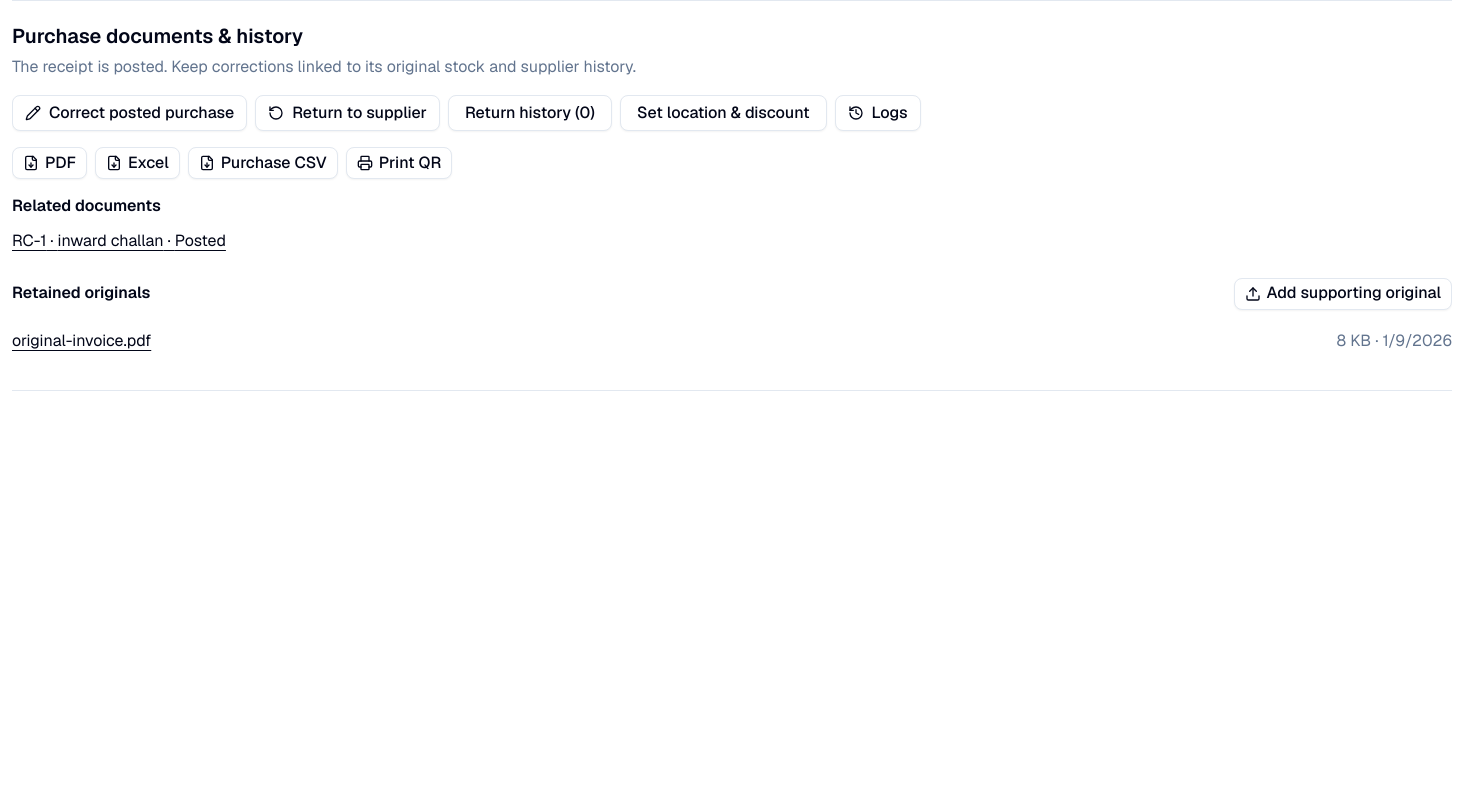
Test case: saves metadata with the current action version and explains that historic totals stay unchanged
The image size is (1464, 810).
Click the button "Set location & discount" at x=723, y=113, box [620,95,827,131]
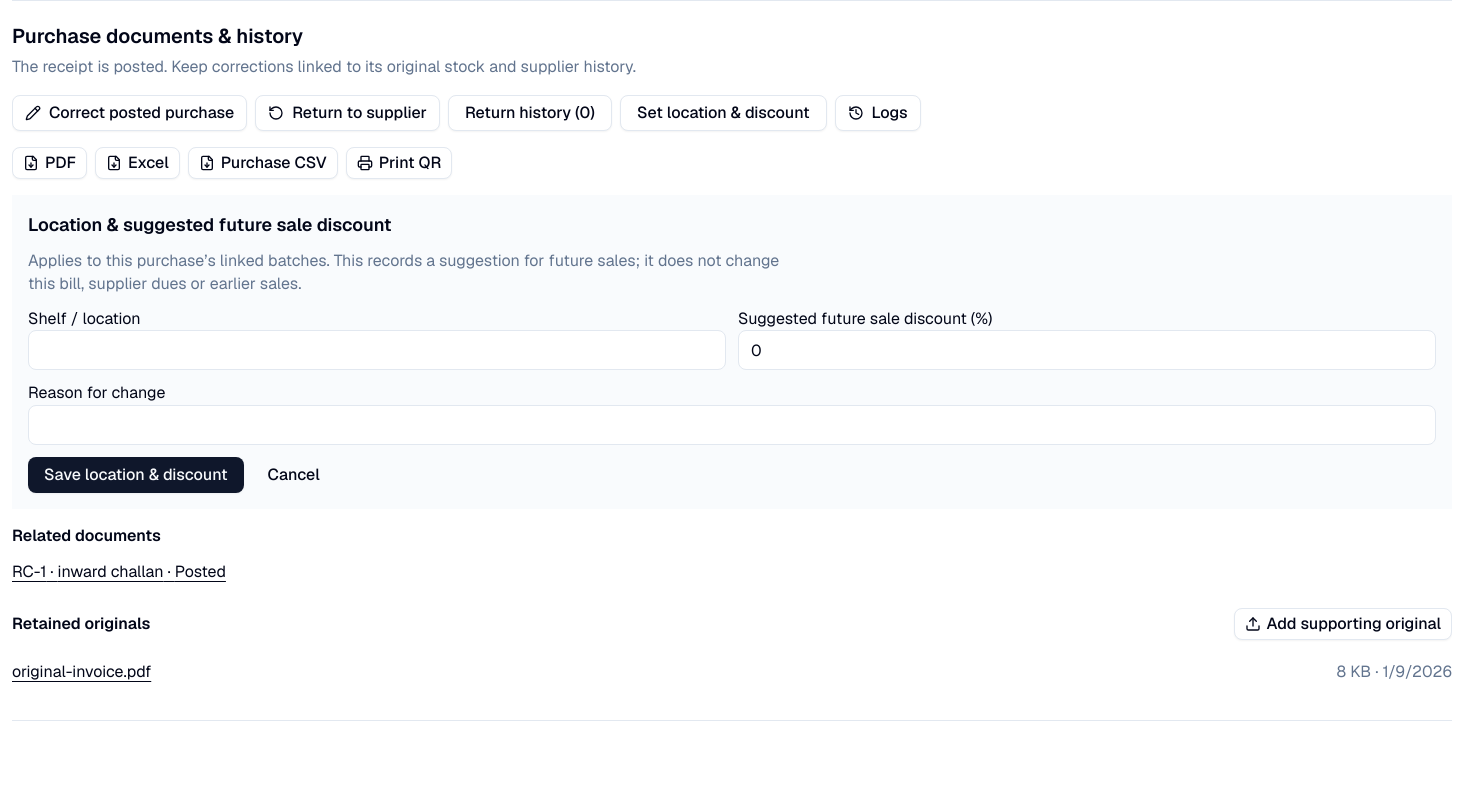
Type "Shelf A-3" into the field labelled "Shelf / location" at x=377, y=350, box [28,330,726,370]
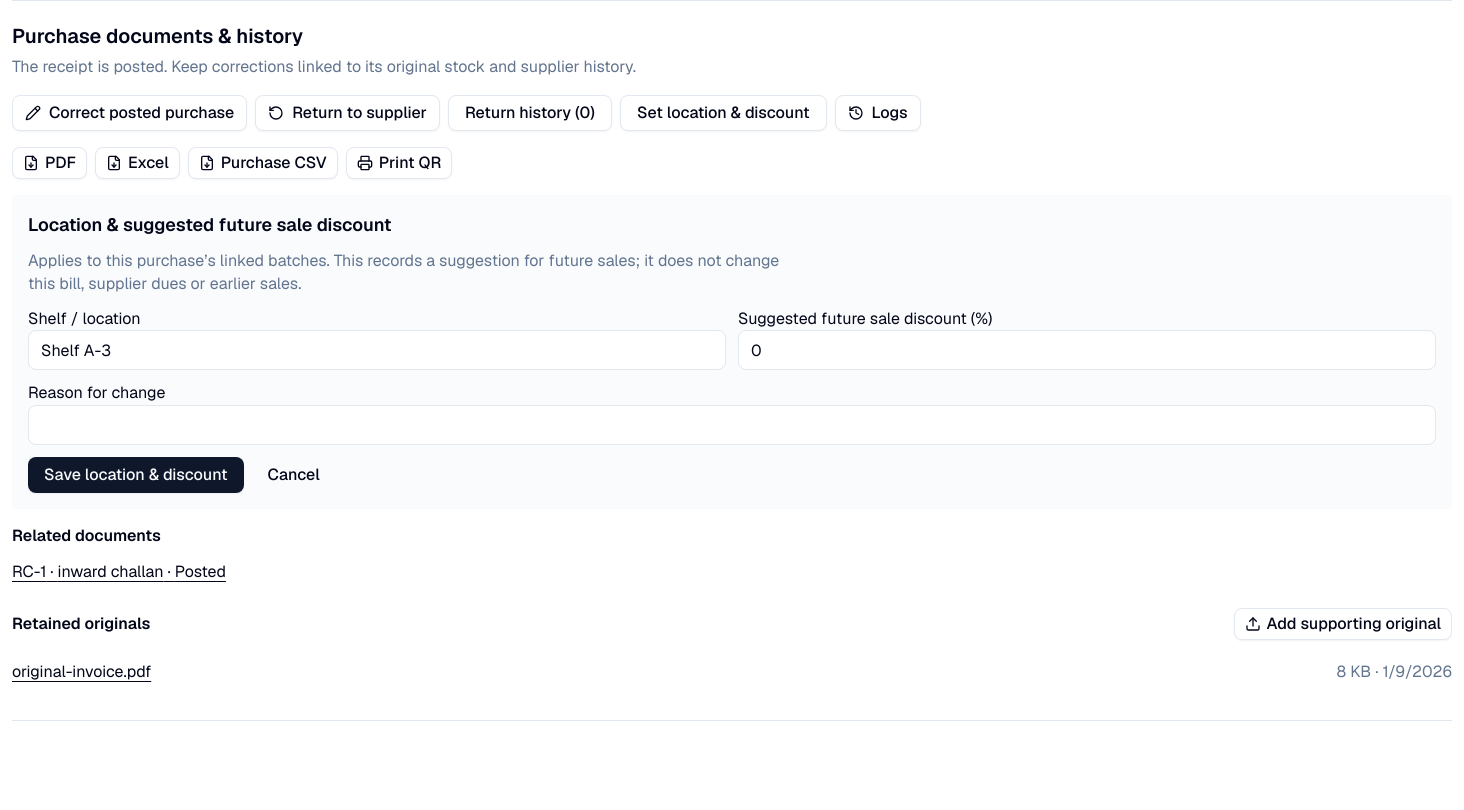
Replace the text in the number field labelled "Suggested future sale discount (%)" with "7.5" at x=1087, y=350, box [738,330,1436,370]
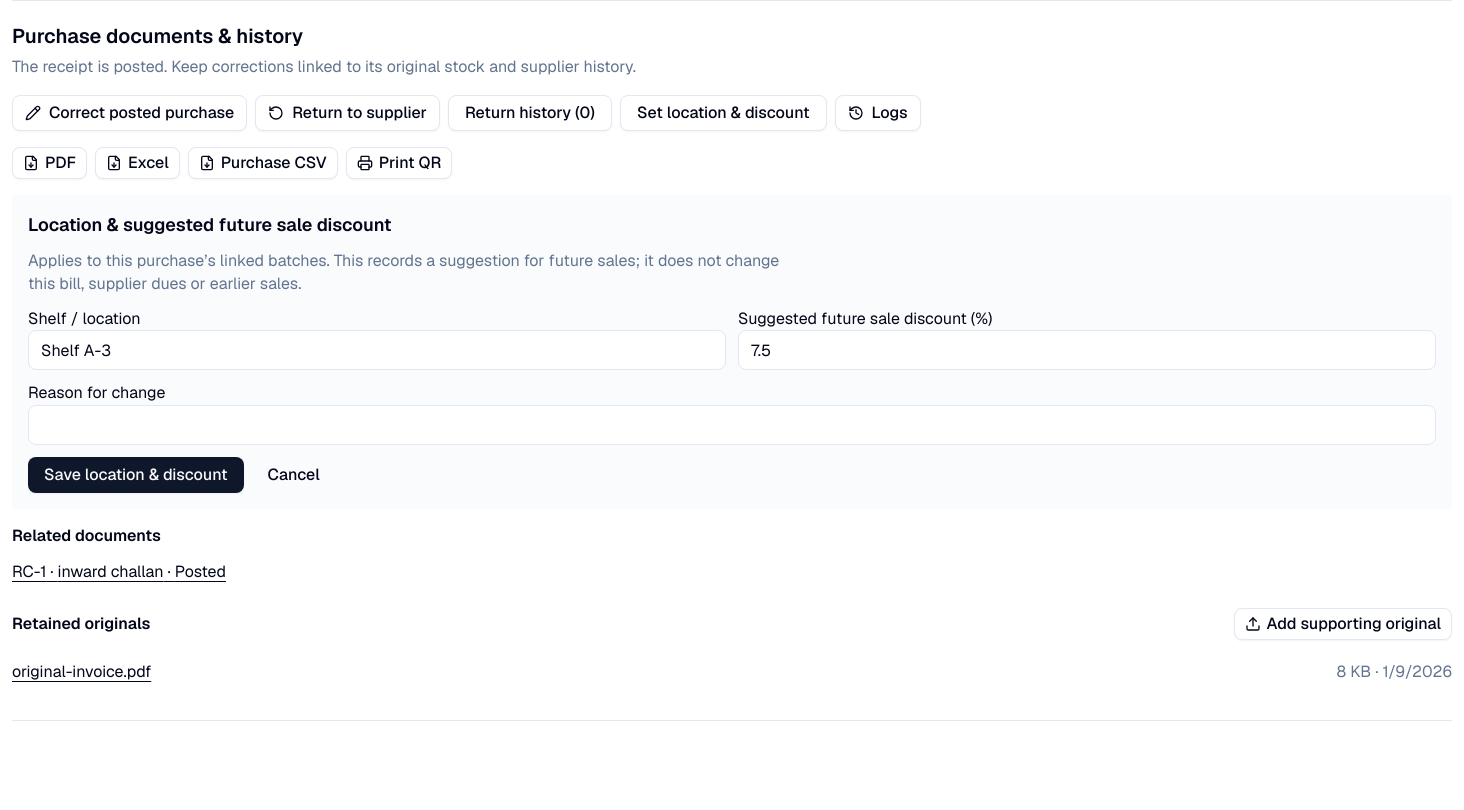
Type "Shelf transfer" into the field labelled "Reason for change" at x=732, y=425, box [28,405,1436,445]
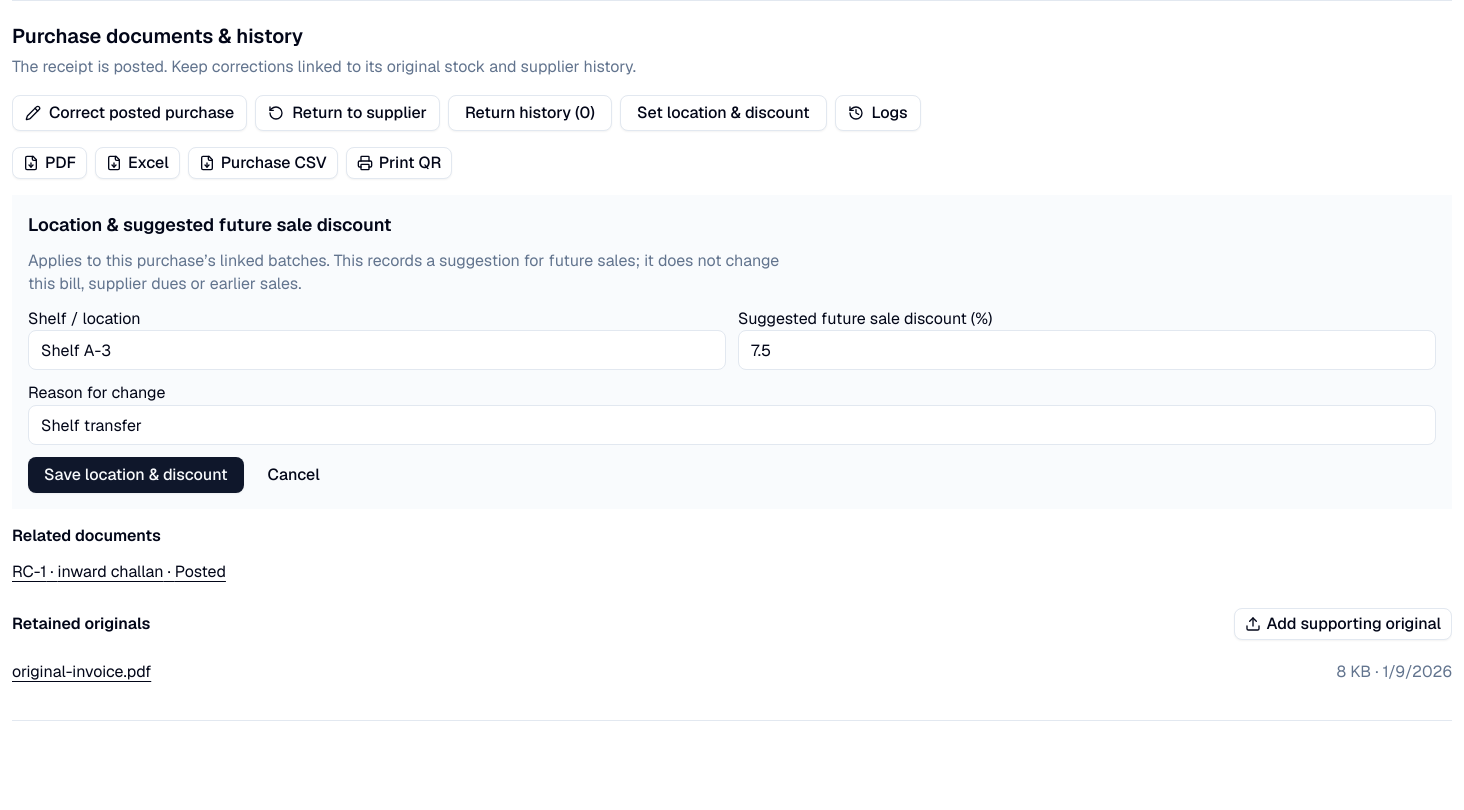
Click the button "Save location & discount" at x=136, y=475, box [28,457,244,493]
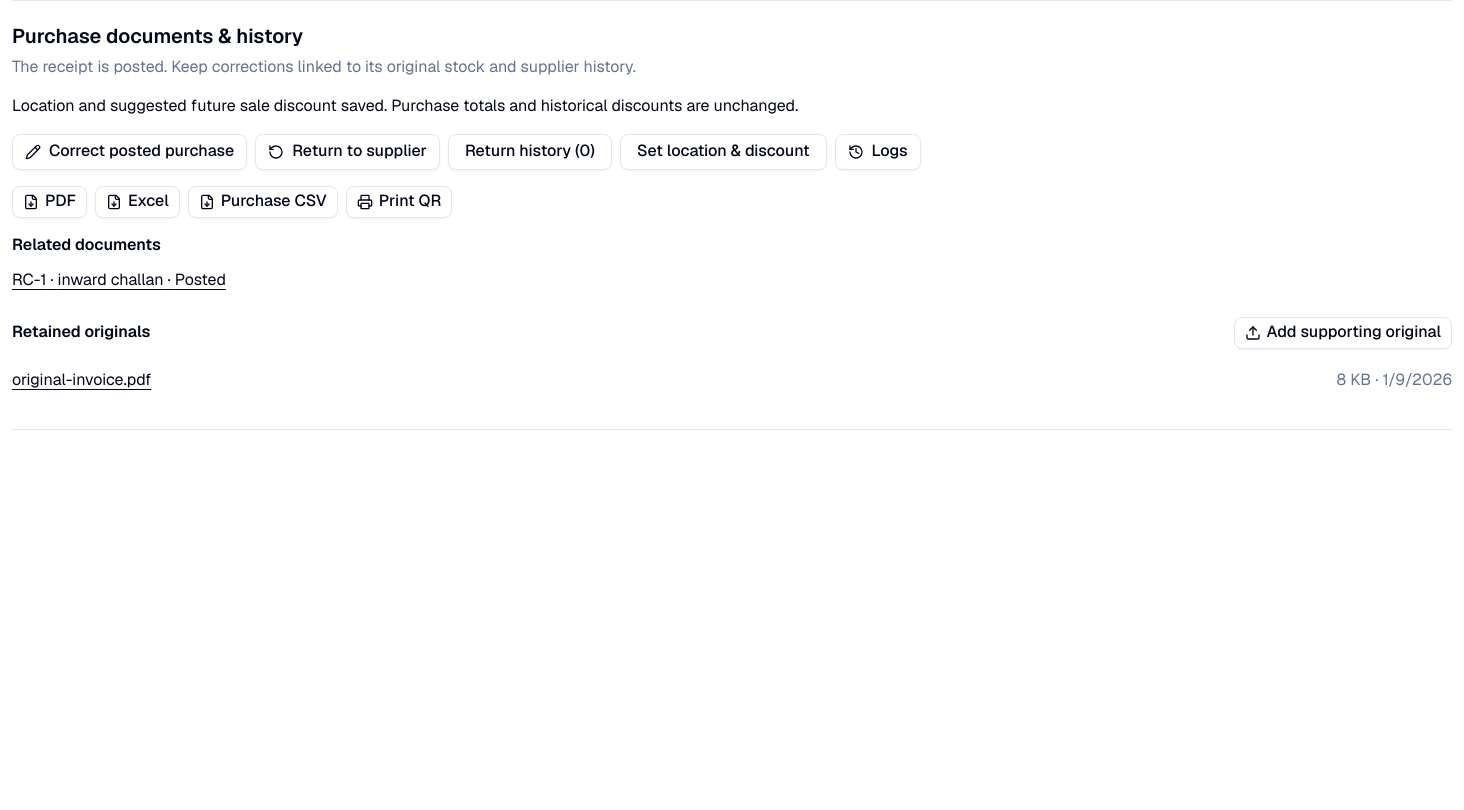
Expected: the text "Purchase totals and historical discounts are unchanged" is shown, [12,95,798,116]
